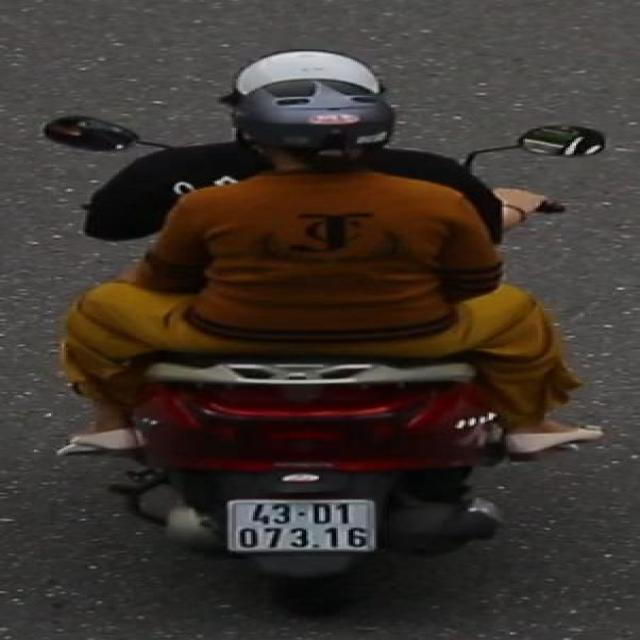LP: (216, 490, 390, 561)
helmet: (218, 75, 428, 189), (218, 45, 394, 95)
